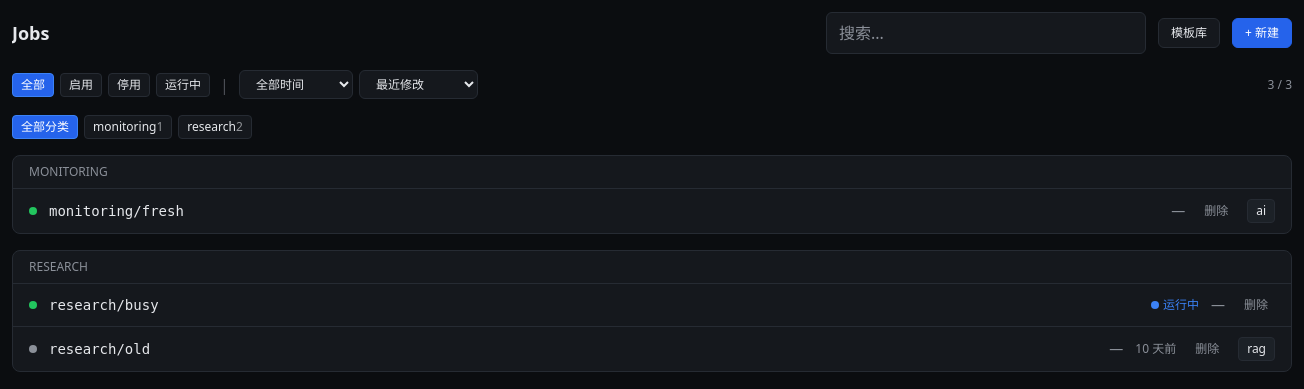
Test: JobsList filters › filters by when the file was last modified
The width and height of the screenshot is (1304, 389).
Expected: the text "monitoring/fresh" is shown, [49,203,184,219]
Select "近 7 天修改" in the dropdown named "按最后修改时间筛选" at (296,84), box [239,70,353,99]
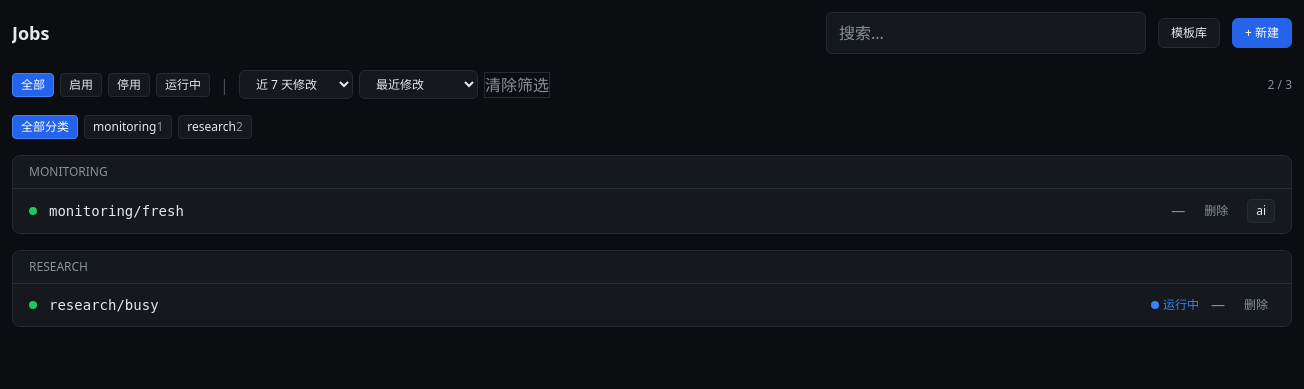
Expected: the text "monitoring/fresh" is shown, [49,203,184,219]
Result: the link "research/old" is gone
